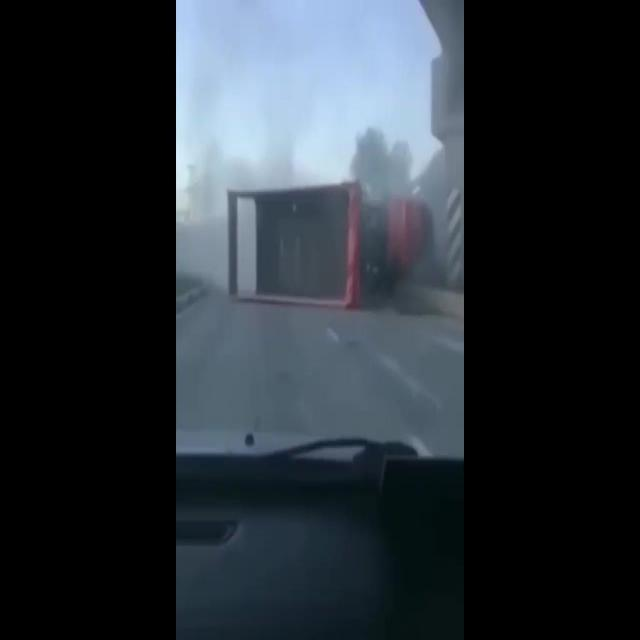accident: (222, 169, 434, 319)
